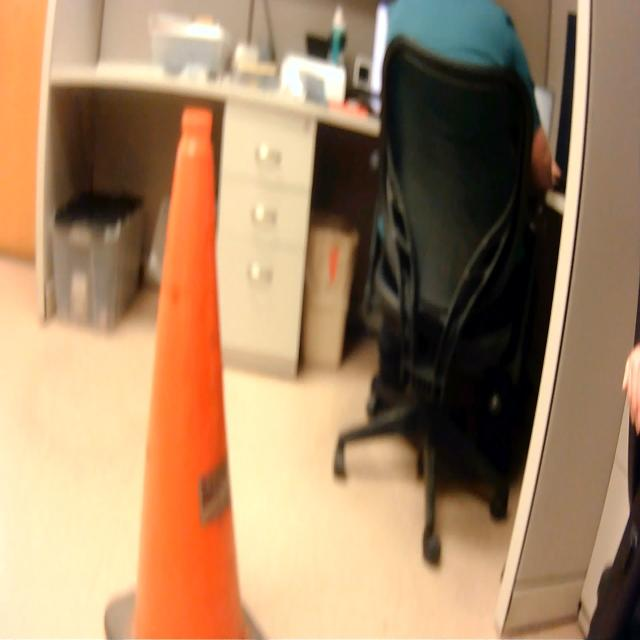traffic cone: (100, 97, 273, 640)
